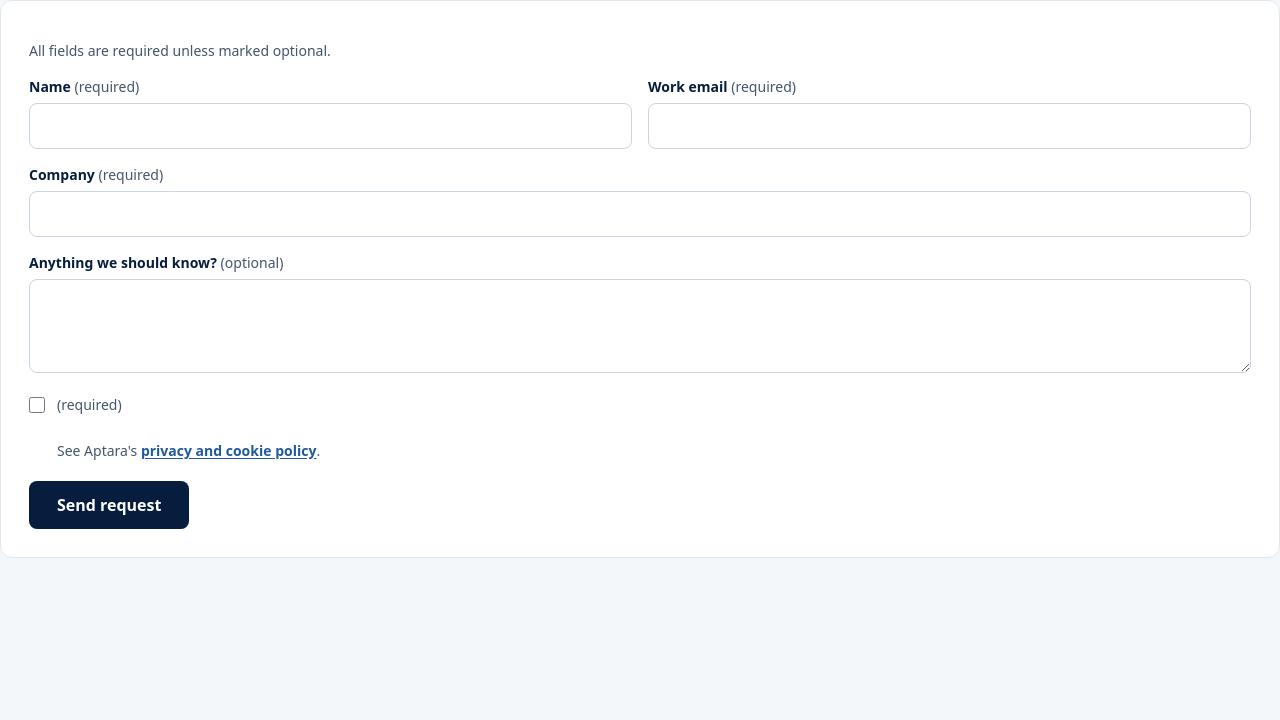
Test: LeadForm › shows inline errors and does not submit when fields are missing
This screenshot has width=1280, height=720.
Click the button "Send request" at x=109, y=505, box [29,481,190,529]
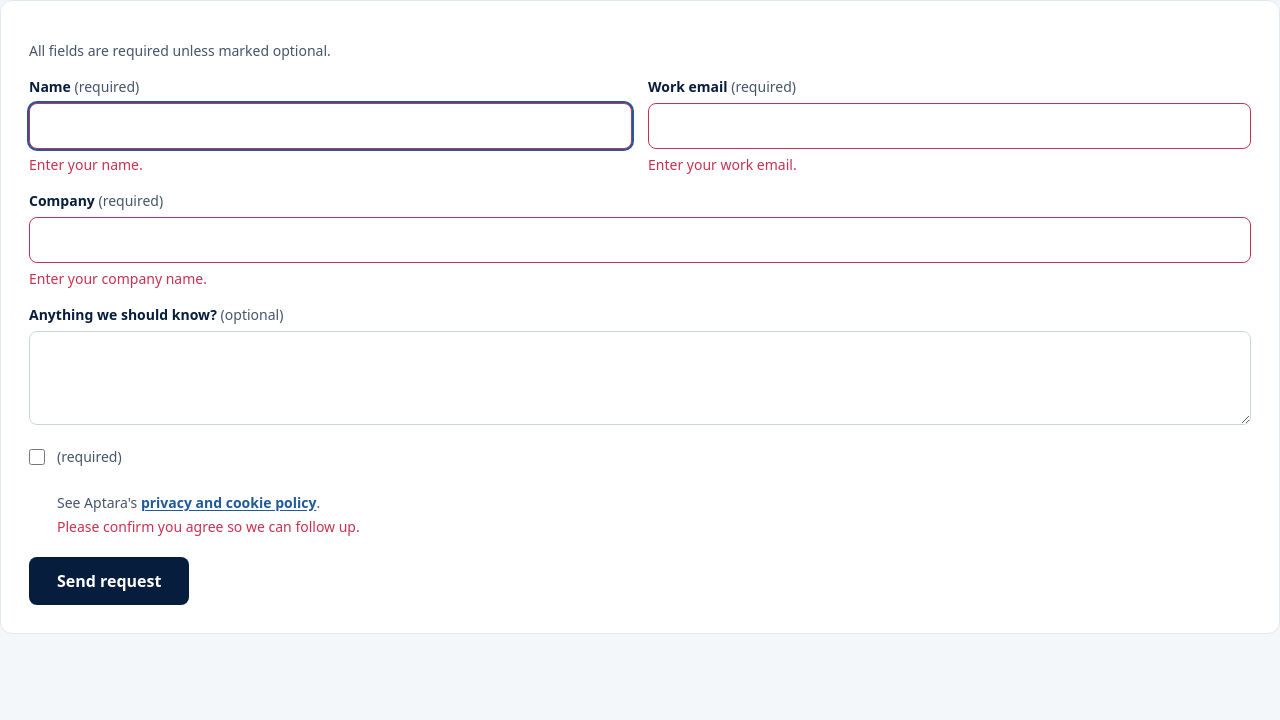
Expected: the text "Enter your name." is shown, [29,155,143,174]
Expected: the text "Please confirm you agree so we can follow up." is shown, [57,517,360,536]
